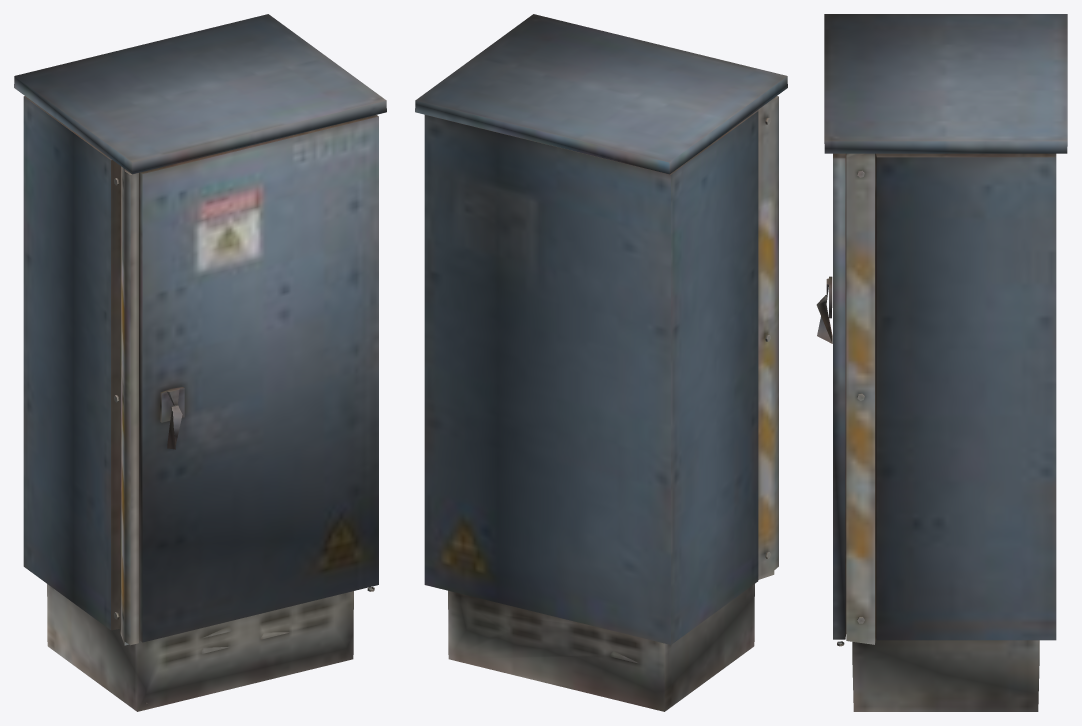
File: utility_box_01.glb
3 renders of one model, left to right at view 1: azimuth 30°, elevation 25°; view 2: azimuth 150°, elevation 25°; view 3: azimuth 270°, elevation 25°, orthographic. The views are drawn at different scales.
Visible parts, largest first — view 1: utility_box_01_box; view 2: utility_box_01_box; view 3: utility_box_01_box.
Part boxes in pixels (bbox=[...]): utility_box_01_box: bbox=[14, 14, 386, 711]; utility_box_01_box: bbox=[415, 14, 787, 711]; utility_box_01_box: bbox=[816, 14, 1067, 711].
Size of the model in its own units: 0.5157 by 1.09 by 0.4287.
Materials: 1 (1 with a texture image).
